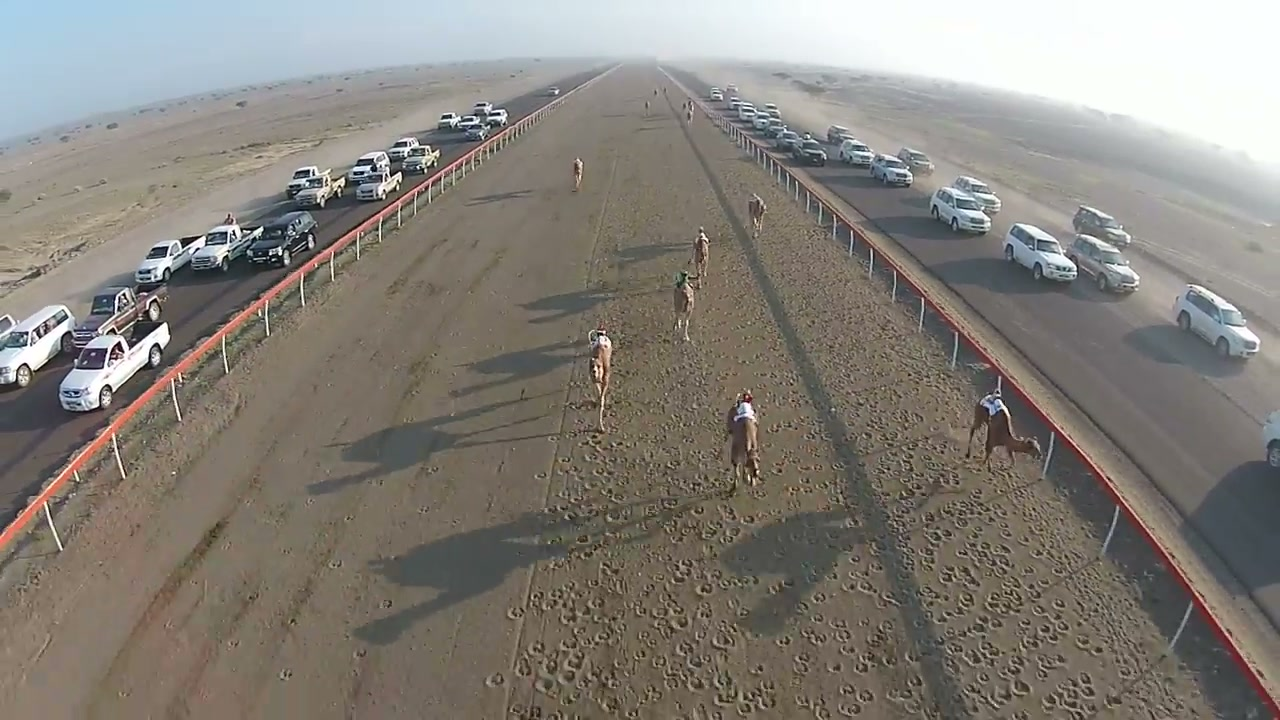animal_footprint: (795, 300, 1013, 715), (974, 457, 1175, 719), (684, 484, 789, 719), (528, 444, 611, 713)
